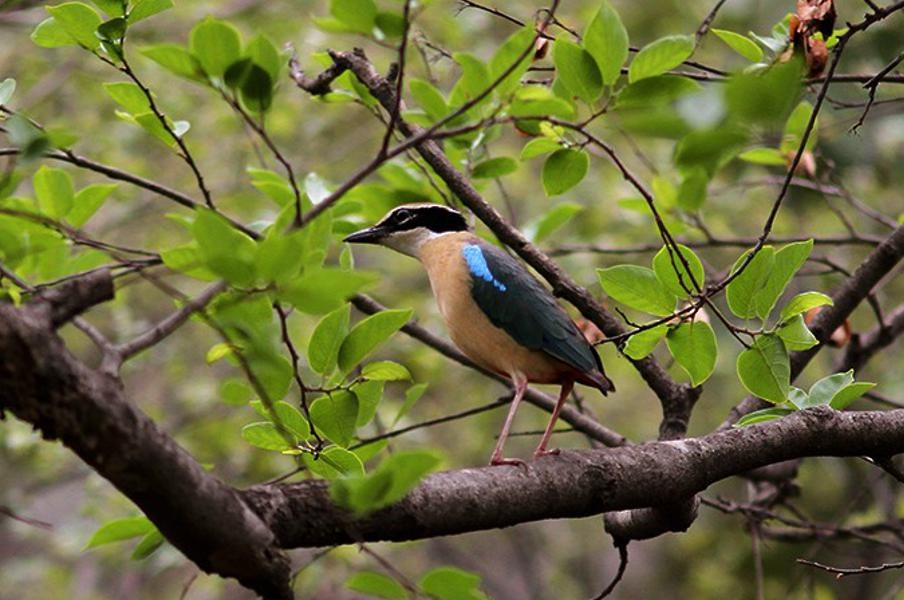pitta: (342, 179, 645, 448)
